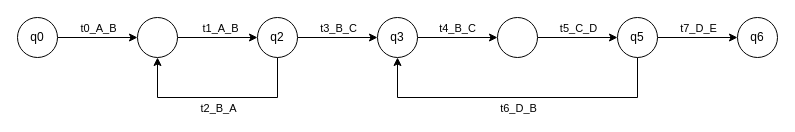
The diagram is 795 pixels wide and 132 high, and some of its shapes have lost their labels. Here are the shapes that lost their labels. From the top down, the centre of each, then its label:
point (157, 37): q1
point (517, 37): q4
